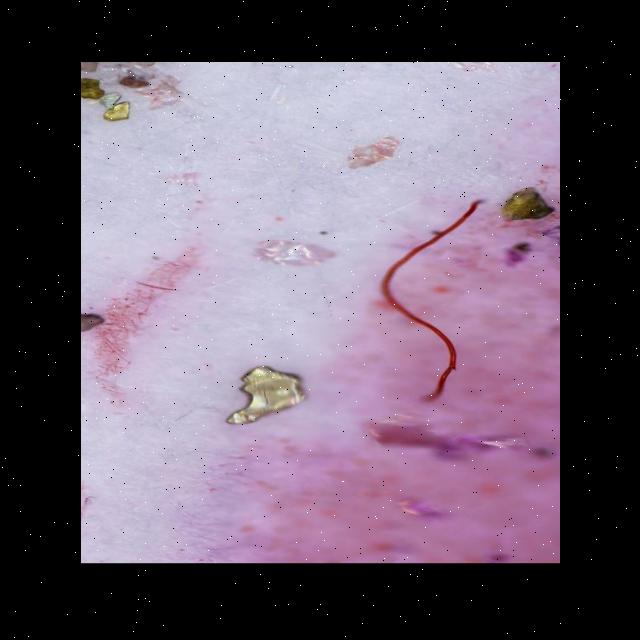Fibre: (342, 194, 498, 410)
